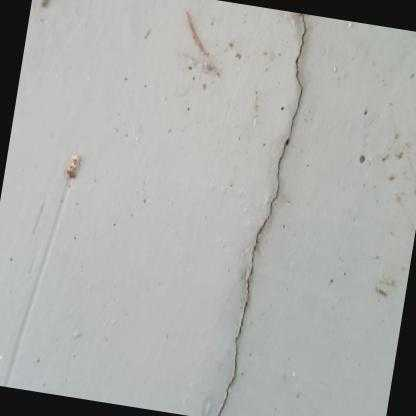crack: (215, 12, 305, 416)
